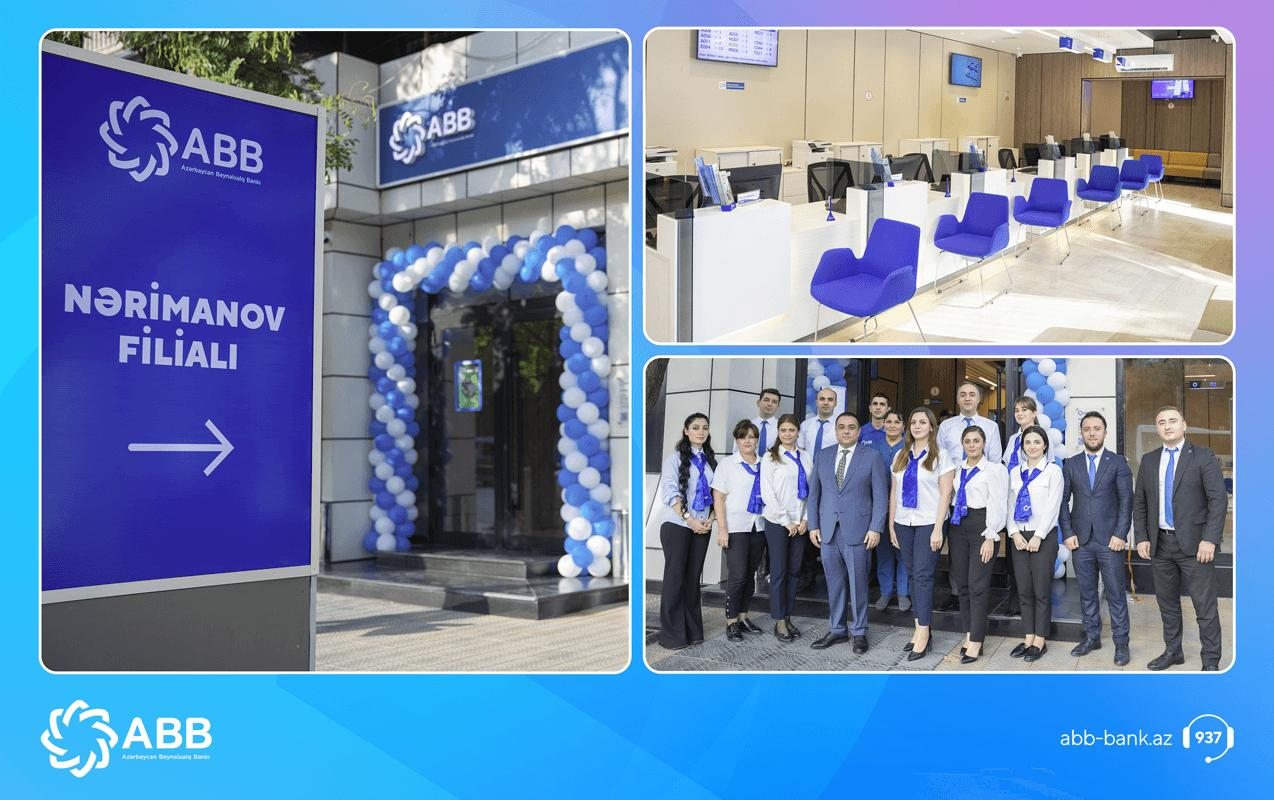ABB: (34, 696, 122, 782), (97, 95, 180, 184), (386, 108, 428, 167)
